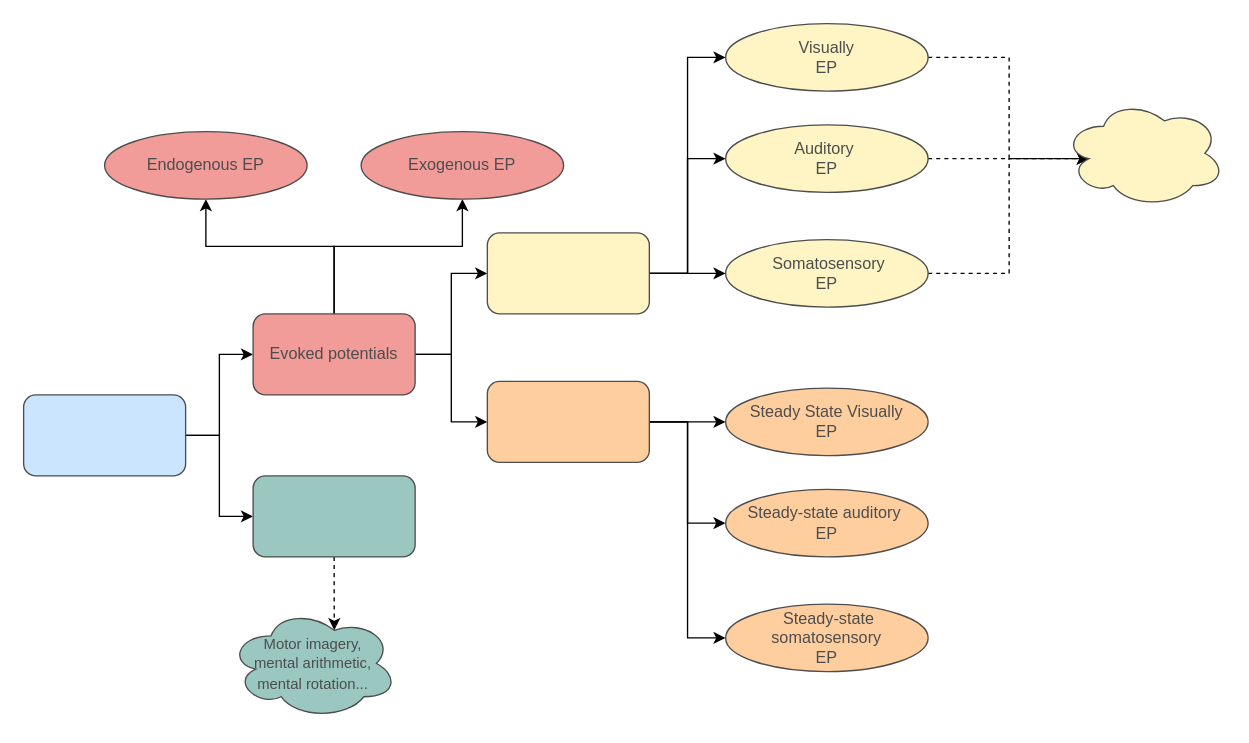
The diagram is 1249 pixels wide and 743 high, and some of its shapes have lost their labels. Each missing label, with the centre of its shape:
"Event related synchronization and desynchronization" goes at pixel 333 516.
"Event-related potential" goes at pixel 567 273.
"Inducing electrical brain activity" goes at pixel 104 435.
"P300, N100, N400 ..." goes at pixel 1143 152.
"Steady state evoked potential" goes at pixel 567 421.
